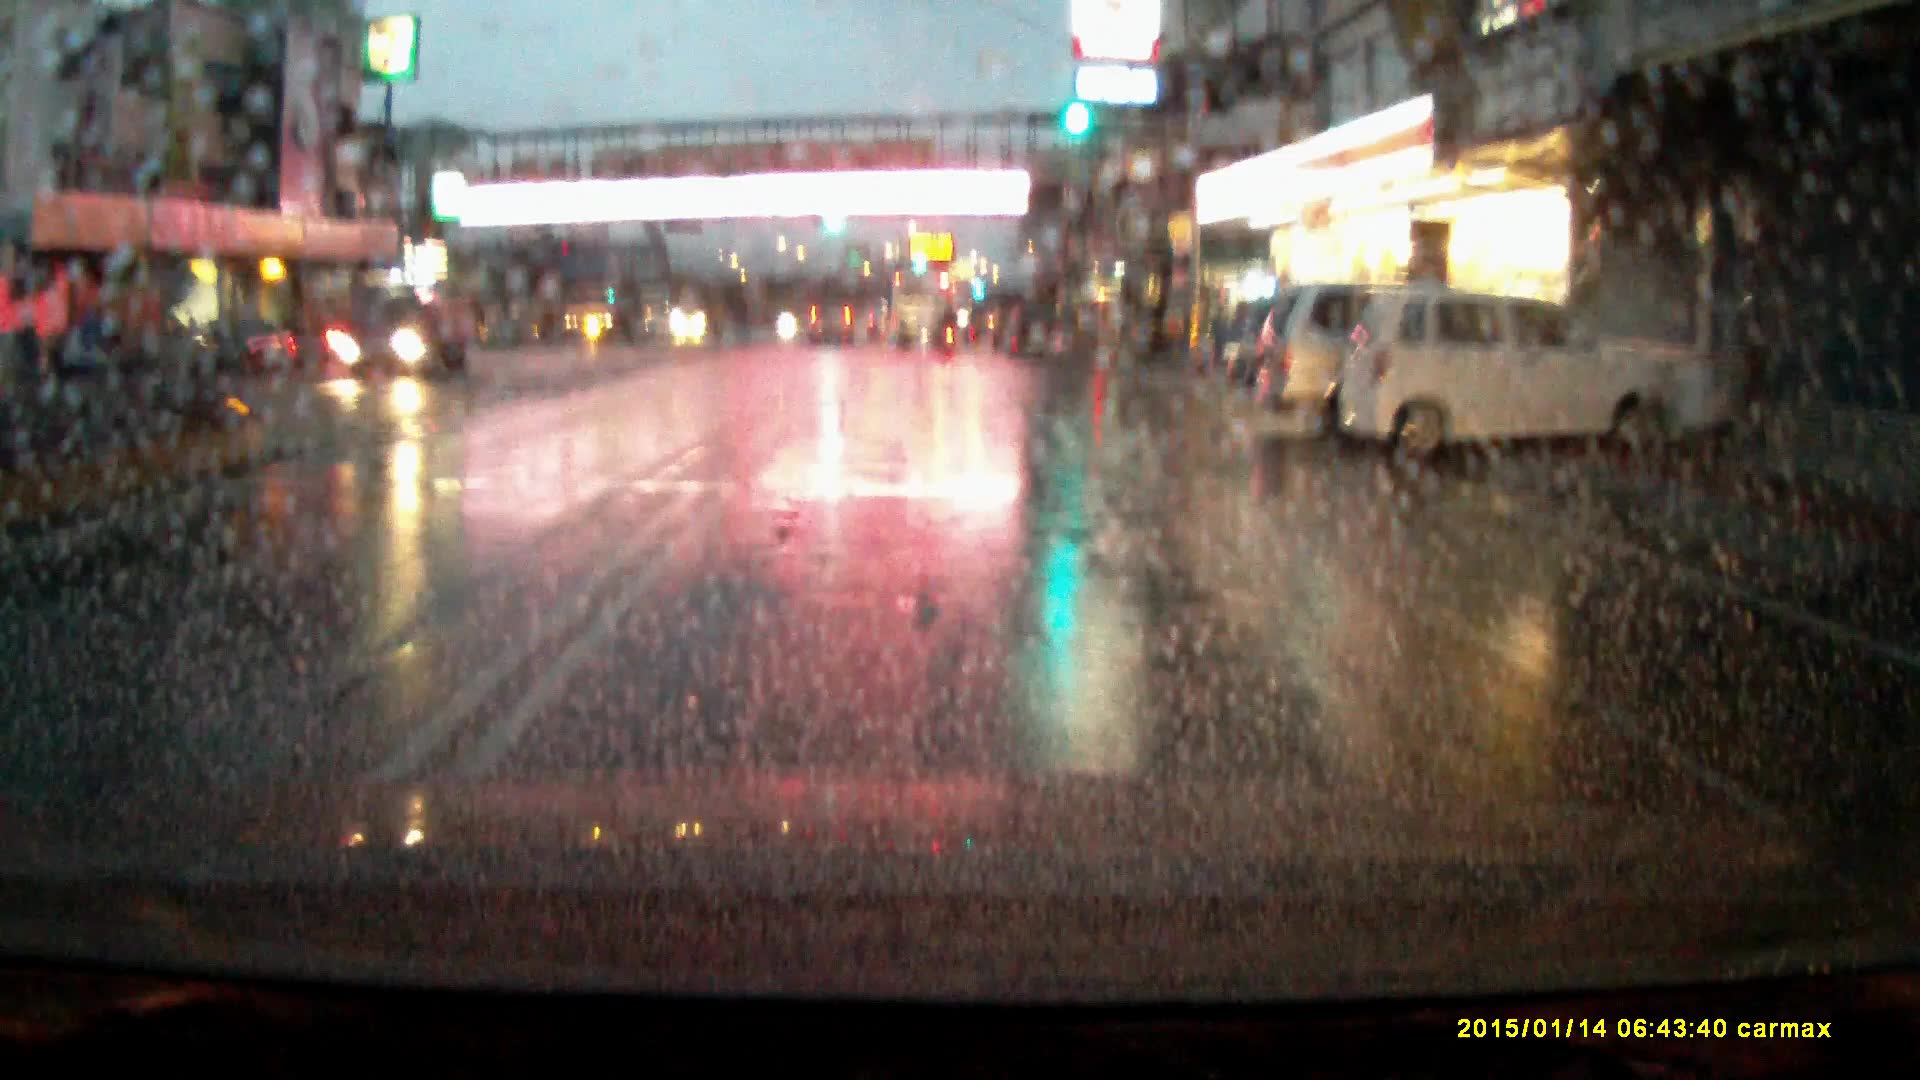rider: (941, 300, 961, 348)
vehicle: (1334, 290, 1687, 470), (1250, 271, 1454, 433), (336, 287, 465, 391), (152, 312, 298, 381), (893, 274, 953, 349), (559, 288, 637, 344), (1001, 297, 1067, 363), (1121, 302, 1190, 362), (668, 296, 732, 346), (808, 302, 860, 353)
